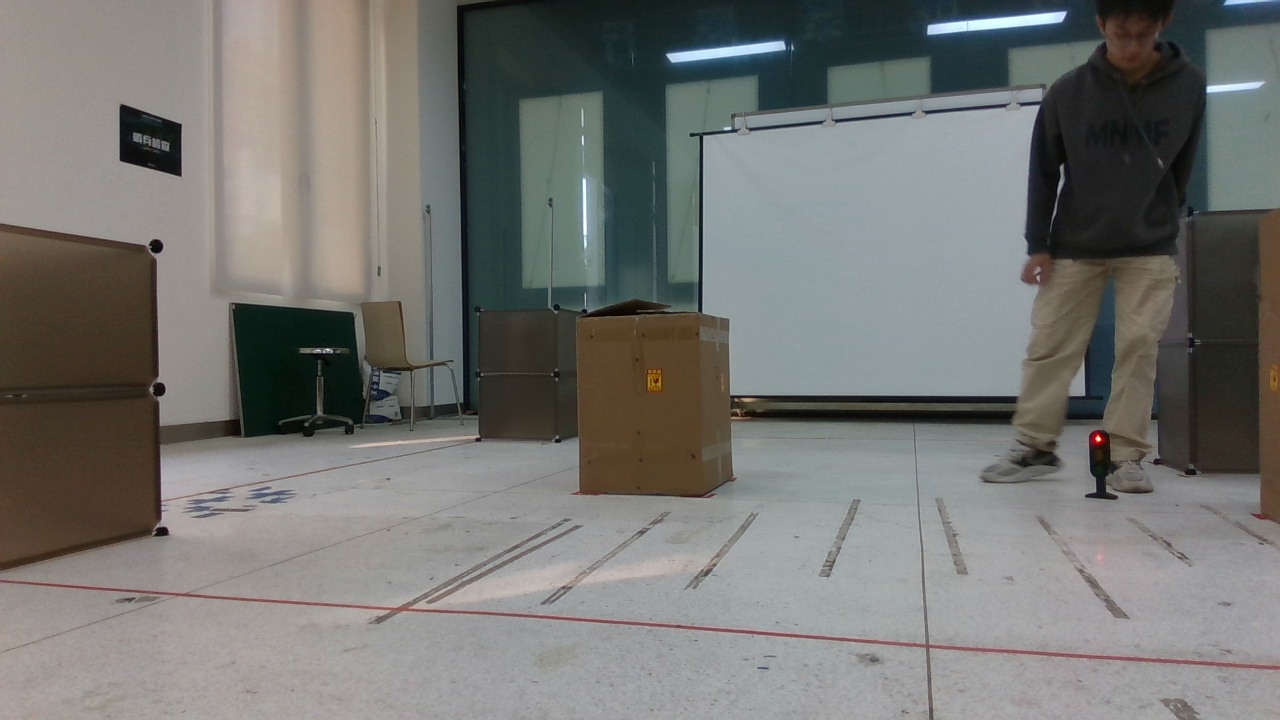red_light: (1076, 424, 1127, 505)
